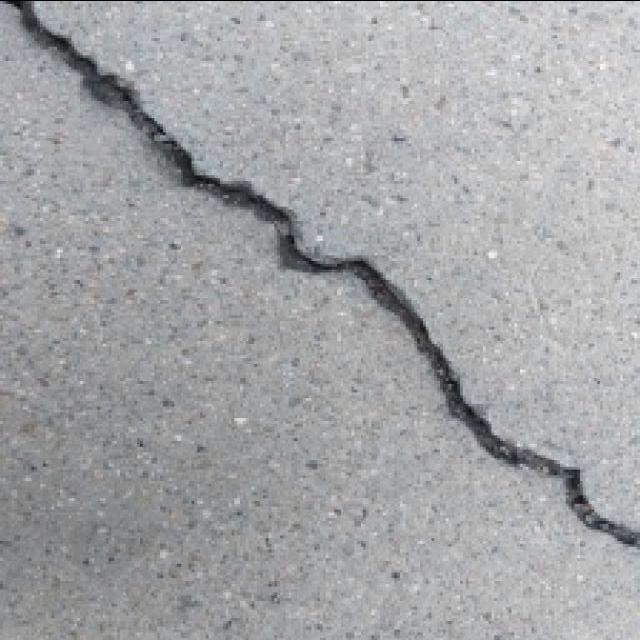SurfaceCrack: (14, 4, 640, 558)
